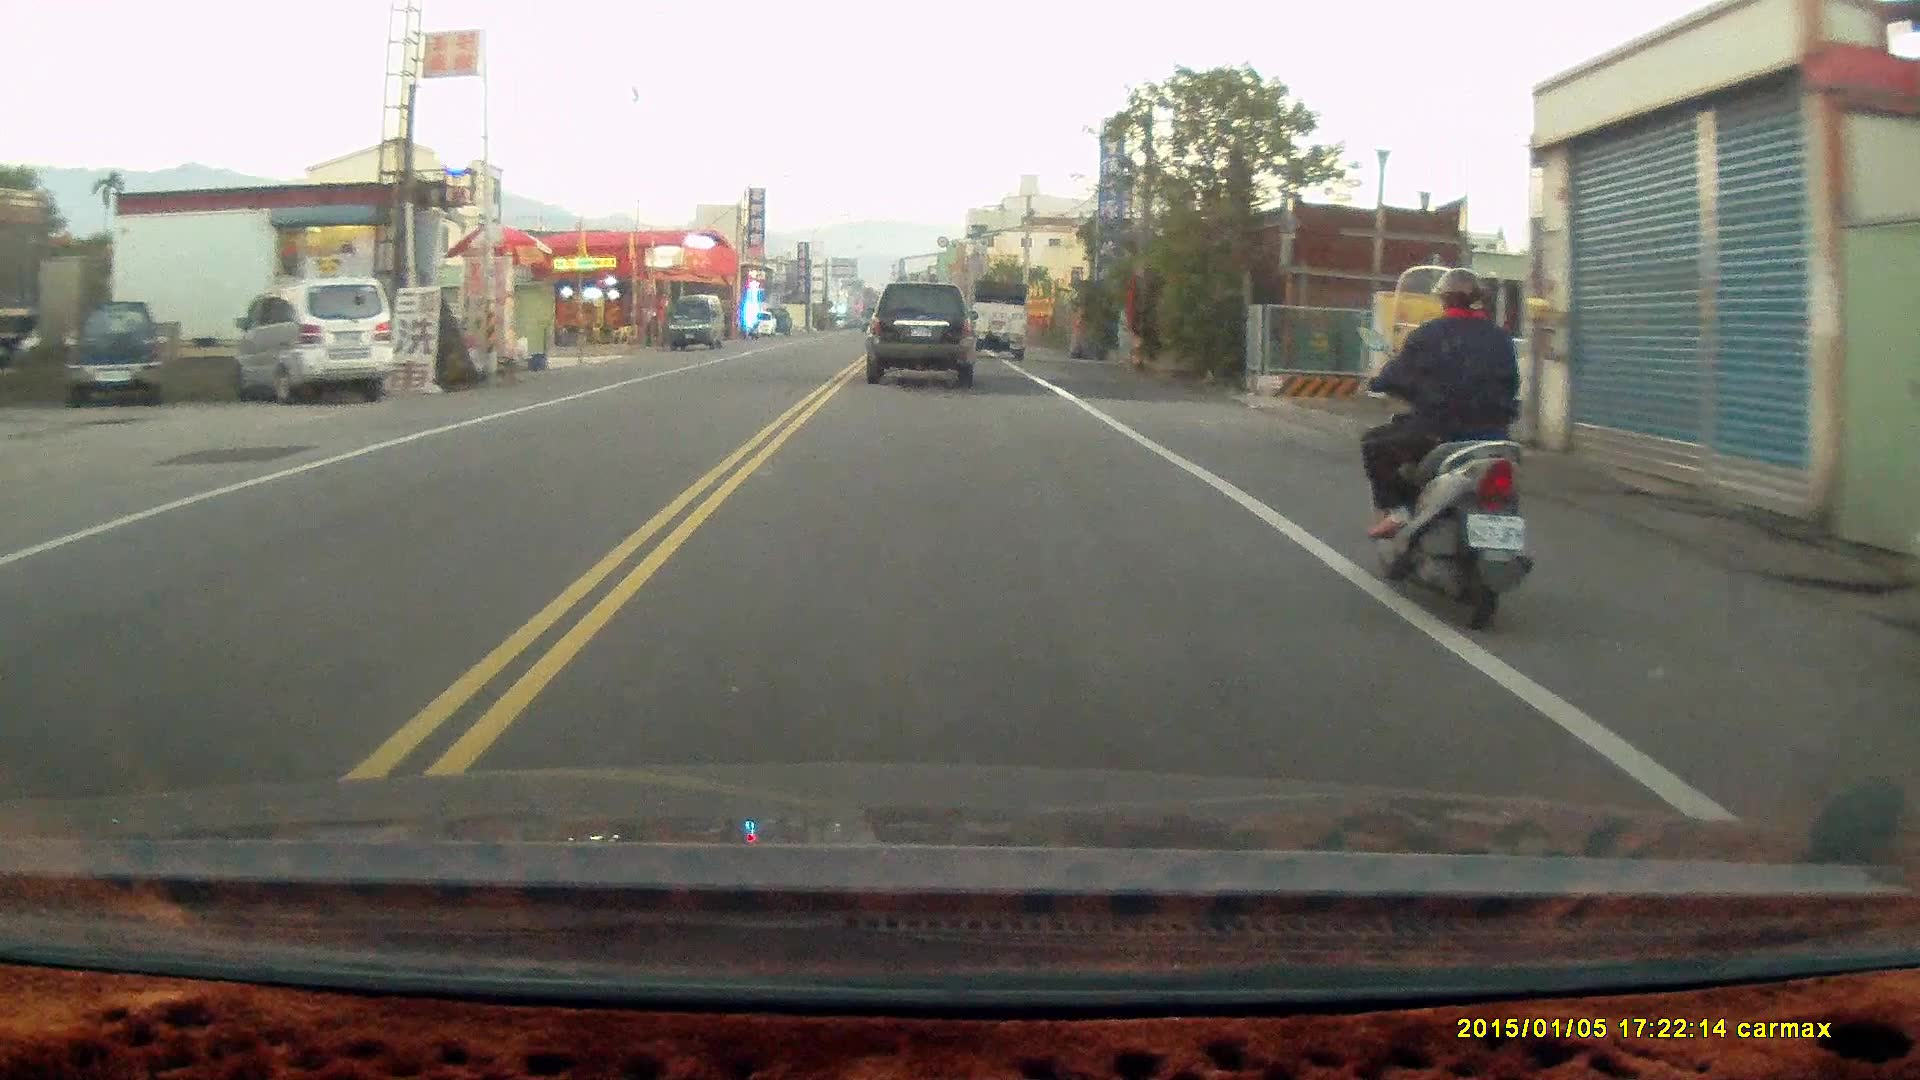rider: (1357, 261, 1534, 629)
vehicle: (232, 277, 392, 409), (866, 279, 983, 392), (63, 299, 167, 408), (969, 280, 1030, 360), (663, 296, 723, 349)
